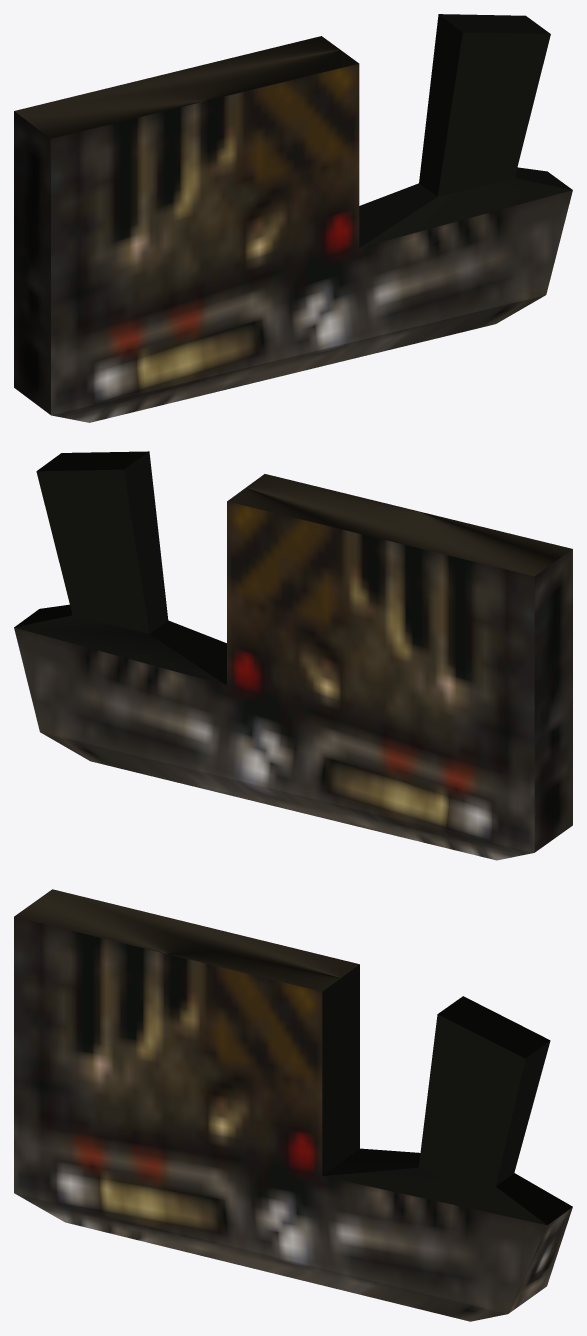
Rendered from AUTOPICK.obj.
3 renders of one model, top to bottom at view 1: azimuth 30°, elevation 25°; view 2: azimuth 150°, elevation 25°; view 3: azimuth 330°, elevation 25°, orthographic.
Visible parts, largest first — view 1: Group1; view 2: Group1; view 3: Group1.
Boxes of the visible parts, x1=… form: Group1: x1=14, y1=14, x2=572, y2=422; Group1: x1=14, y1=451, x2=572, y2=860; Group1: x1=14, y1=889, x2=572, y2=1321.
Size of the model in its own units: 46.02 by 24.96 by 5.76.
1 material, 1 textured.
